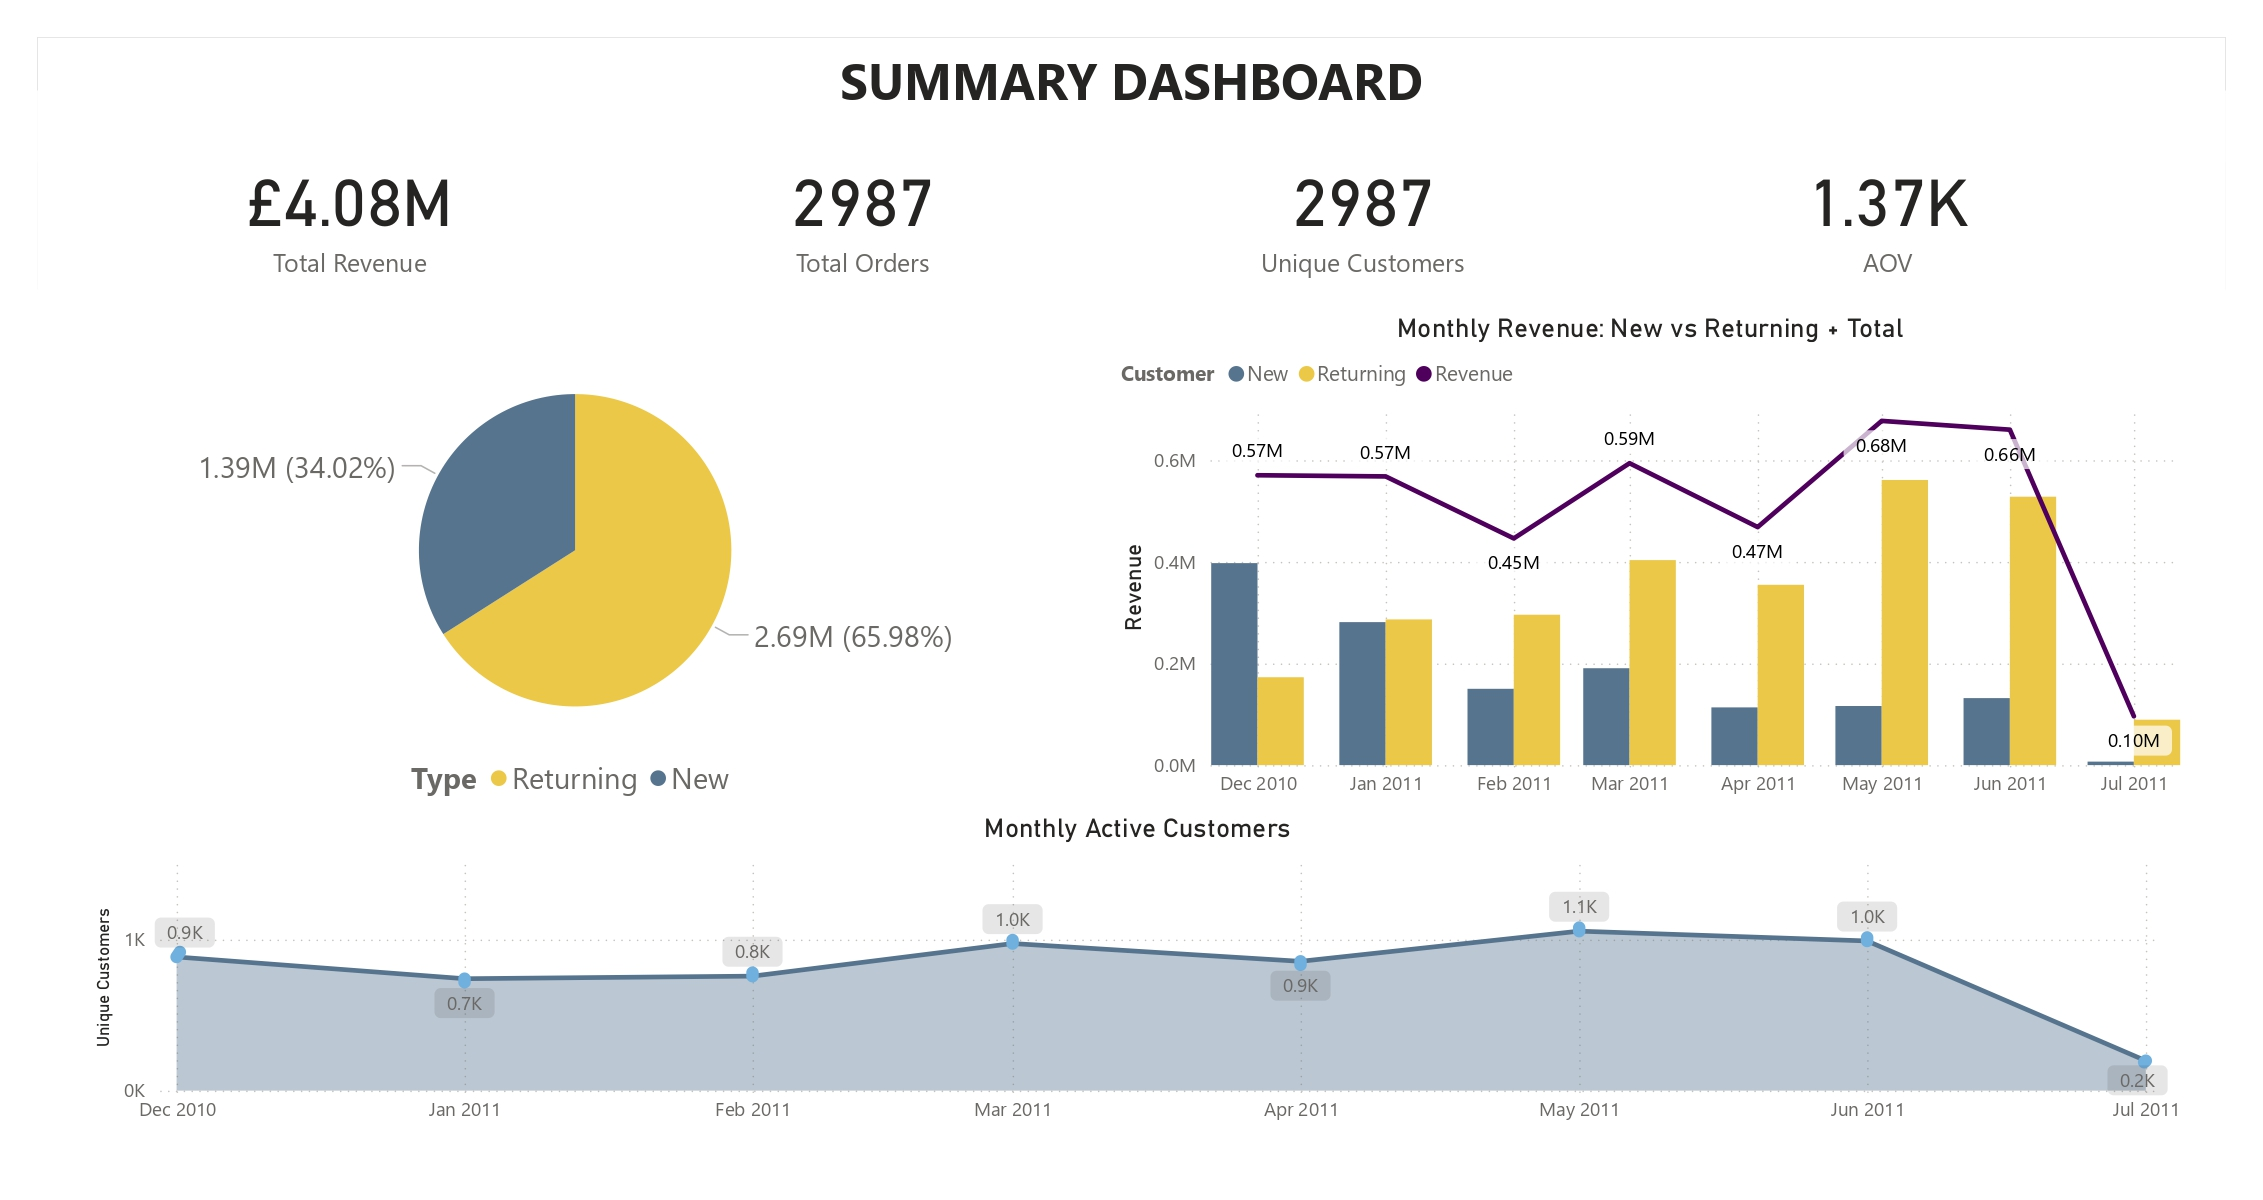

The dashboard page shown, as its layout file describes it:
{"tool":"powerbi","page":{"name":"Executive Summary Dashboard","canvas":[1400,720],"ordinal":0},"visuals":[{"type":"textbox","box":[0,0,1400,80],"z":0},{"type":"card","fields":{"Values":["edata_customer_type.Total Orders"]},"box":[368,64,320,96],"z":1000},{"type":"card","fields":{"Values":["edata_customer_type.Unique Customers"]},"box":[688,64,320,96],"z":2000},{"type":"card","fields":{"Values":["edata_customer_type.Total Revenue"]},"box":[32,64,336,96],"z":3000},{"type":"pieChart","title":"Customer Type Split","fields":{"Category":["edata_customer_type.CustomerType"],"Y":["edata_customer_type.Total Revenue_C"]},"box":[32,176,624,320],"z":4000},{"type":"lineClusteredColumnComboChart","title":"Monthly Revenue: New vs Returning + Total","fields":{"Category":["edata_customer_type.Year_Month"],"Y":["edata_customer_type.Total Revenue"],"Series":["edata_customer_type.CustomerType"],"Y2":["edata_customer_type.Total Revenue"]},"box":[688,176,688,320],"z":5000},{"type":"lineChart","title":"Monthly Active Customers","fields":{"Y":["edata_customer_type.Unique Customers"],"Category":["edata_customer_type.Year_Month"]},"box":[32,496,1344,208],"z":6000},{"type":"card","fields":{"Values":["edata_customer_type.AOV"]},"box":[1024,64,320,96],"z":7000}]}

Visuals, with their boxes on the page's 1400x720 design canvas (x1, y1, x2, y2). These are canvas units, not pixel positions in the 2263x1200 screenshot, which may show the page scaled, cropped or inside an application window:
textbox: 0/0/1400/80
card - edata_customer_type.Total Orders: 368/64/688/160
card - edata_customer_type.Unique Customers: 688/64/1008/160
card - edata_customer_type.Total Revenue: 32/64/368/160
"Customer Type Split" pieChart: 32/176/656/496
"Monthly Revenue: New vs Returning + Total" lineClusteredColumnComboChart: 688/176/1376/496
"Monthly Active Customers" lineChart: 32/496/1376/704
card - edata_customer_type.AOV: 1024/64/1344/160
